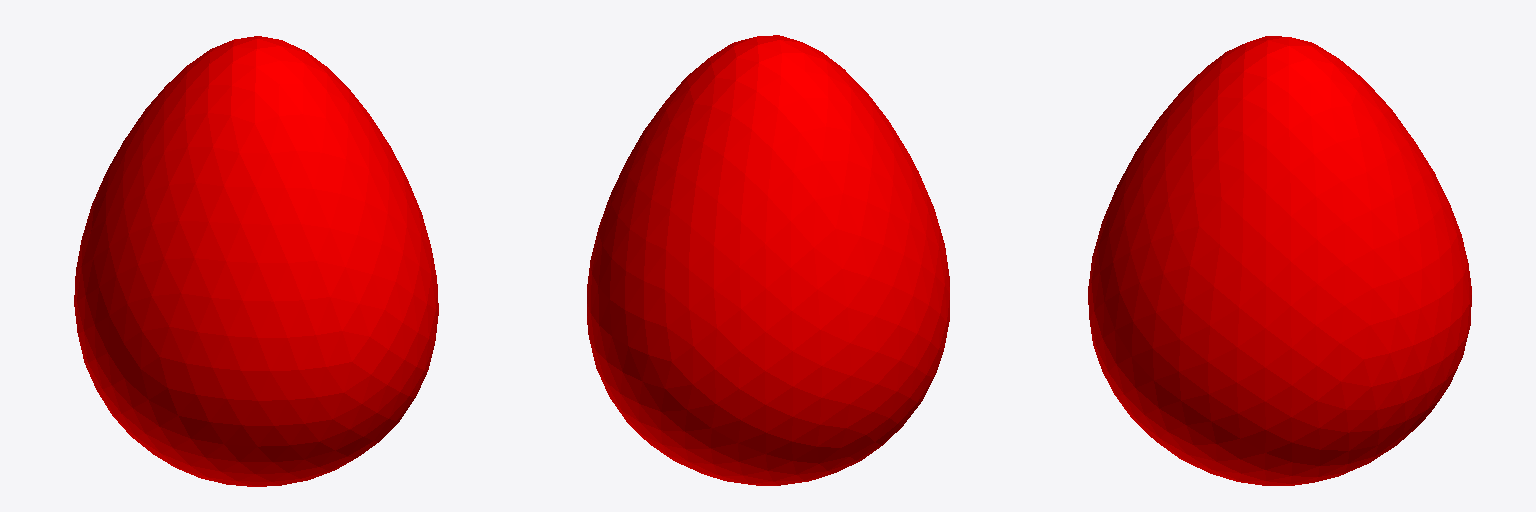
The model's file is balloon.obj.
3 renders of one model, left to right at view 1: azimuth 30°, elevation 25°; view 2: azimuth 150°, elevation 25°; view 3: azimuth 270°, elevation 25°, orthographic.
Parts seen in each view (by area): view 1: selected_model.osgt_GeoSphere01_Geometry_0; view 2: selected_model.osgt_GeoSphere01_Geometry_0; view 3: selected_model.osgt_GeoSphere01_Geometry_0.
Part boxes in pixels (left/top/right/bottom): selected_model.osgt_GeoSphere01_Geometry_0: left=74, top=36, right=438, bottom=486; selected_model.osgt_GeoSphere01_Geometry_0: left=587, top=35, right=949, bottom=485; selected_model.osgt_GeoSphere01_Geometry_0: left=1088, top=36, right=1471, bottom=485.
Size of the model in its own units: 98.45 by 129 by 105.